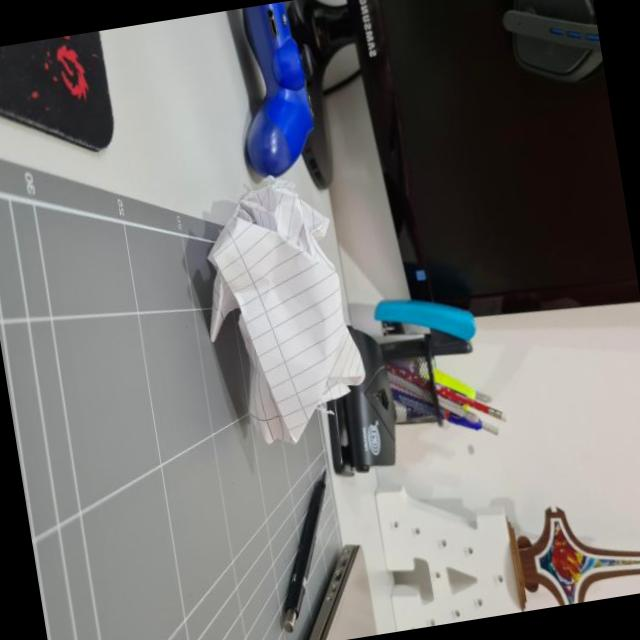cardboard paper: (210, 182, 366, 444)
